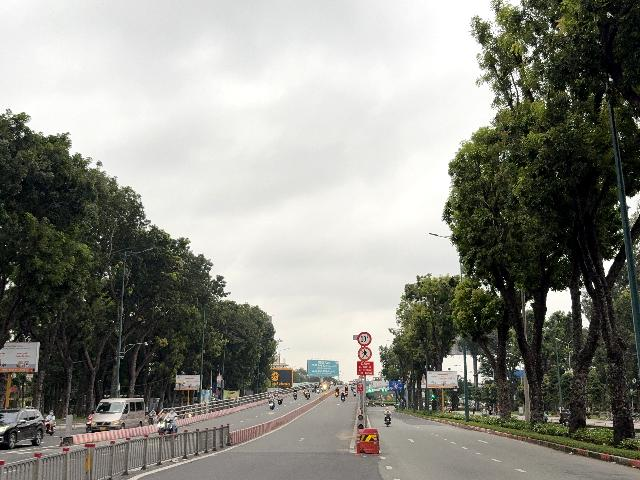cam-nguoi-di-bo: (358, 347, 372, 361)
han-che-trong-luong-xe: (358, 331, 372, 346)
